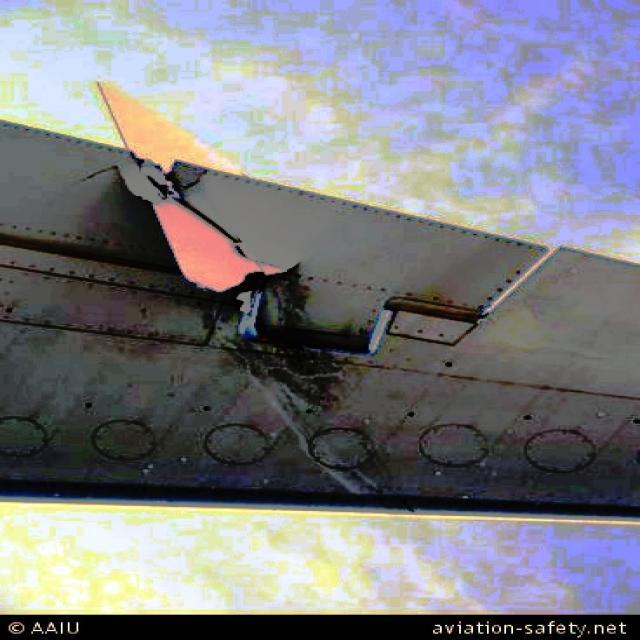crack: (76, 149, 315, 288)
